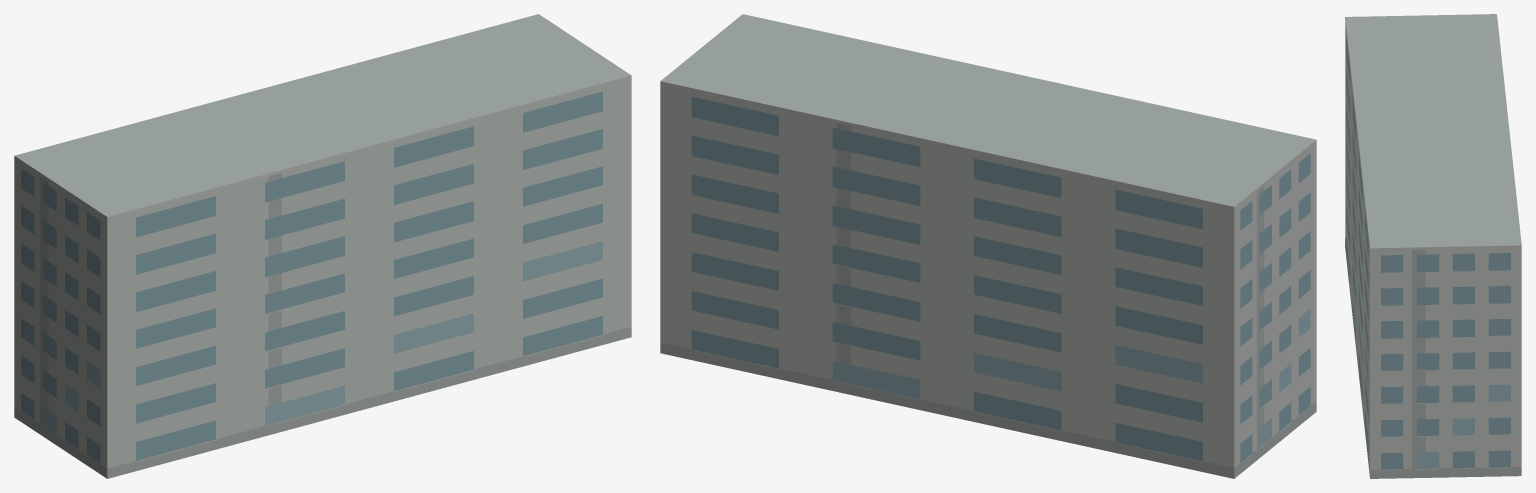
Rendered from residential-0eff024a-1fbd-40e3-ad6f-a23f0f66cbd2.glb.
3 renders of one model, left to right at view 1: azimuth 30°, elevation 25°; view 2: azimuth 150°, elevation 25°; view 3: azimuth 270°, elevation 25°, orthographic. The views are drawn at different scales.
Visible parts, largest first — view 1: residential-0eff024a-1fbd-40e3-ad6f-a23f0f66cbd2.tmp; view 2: residential-0eff024a-1fbd-40e3-ad6f-a23f0f66cbd2.tmp; view 3: residential-0eff024a-1fbd-40e3-ad6f-a23f0f66cbd2.tmp.
Boxes of the visible parts, x1=… form: residential-0eff024a-1fbd-40e3-ad6f-a23f0f66cbd2.tmp: x1=14, y1=14, x2=631, y2=478; residential-0eff024a-1fbd-40e3-ad6f-a23f0f66cbd2.tmp: x1=660, y1=14, x2=1316, y2=478; residential-0eff024a-1fbd-40e3-ad6f-a23f0f66cbd2.tmp: x1=1345, y1=14, x2=1521, y2=478.
Size of the model in its own units: 46.52 by 21.35 by 14.83.
